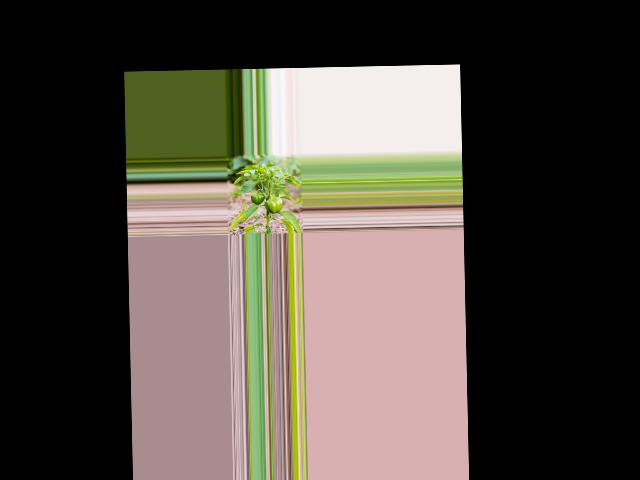bell_pepper: (249, 191, 264, 205)
